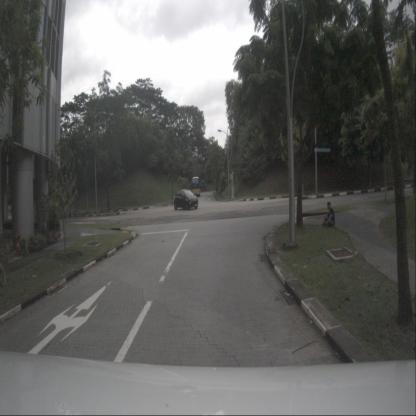human-pedestrian-adult: (322, 201, 336, 226)
vehicle-bus-rigid: (190, 176, 201, 198)
vehicle-car: (174, 188, 198, 211)
